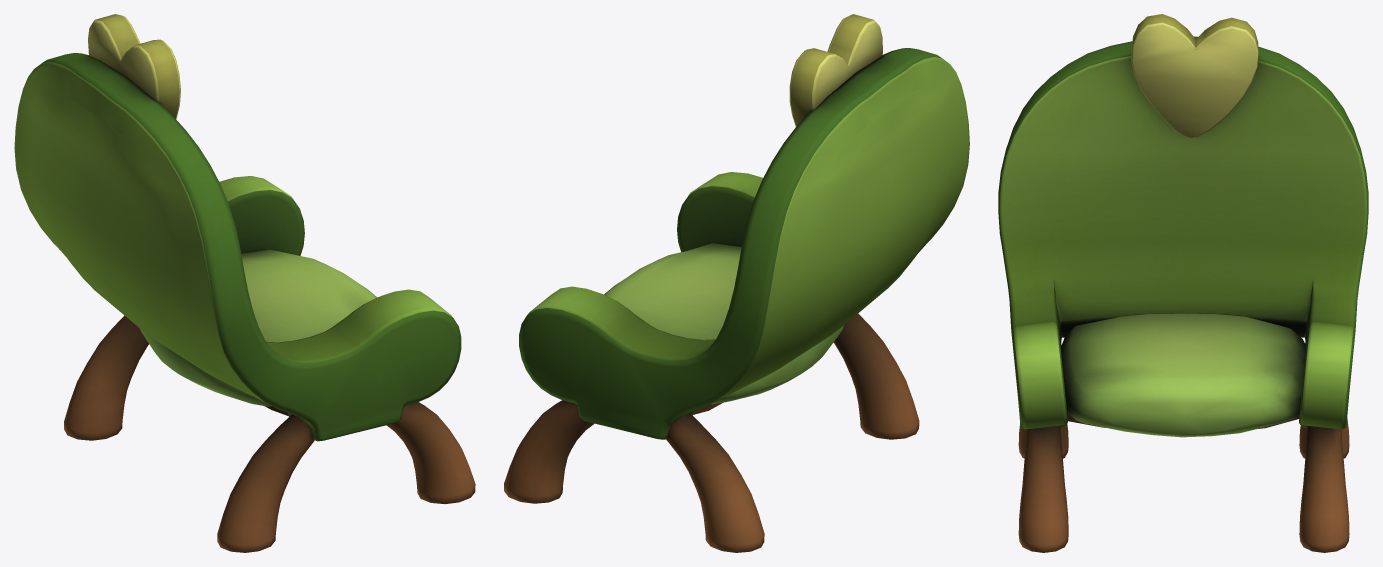
File: armchair.glb
3 views of the same model, side by side, from view 1: azimuth 30°, elevation 25°; view 2: azimuth 150°, elevation 25°; view 3: azimuth 270°, elevation 25° (orthographic). The views are drawn at different scales.
Visible parts, largest first — view 1: fc_sofa_2.smd; view 2: fc_sofa_2.smd; view 3: fc_sofa_2.smd.
Boxes of the visible parts, x1,y1,x2,y2 form: fc_sofa_2.smd: [14, 14, 475, 552]; fc_sofa_2.smd: [504, 14, 969, 552]; fc_sofa_2.smd: [998, 14, 1368, 552].
Size of the model in its own units: 1.04 by 1.5 by 1.19.
Materials: 1 (1 with a texture image).
